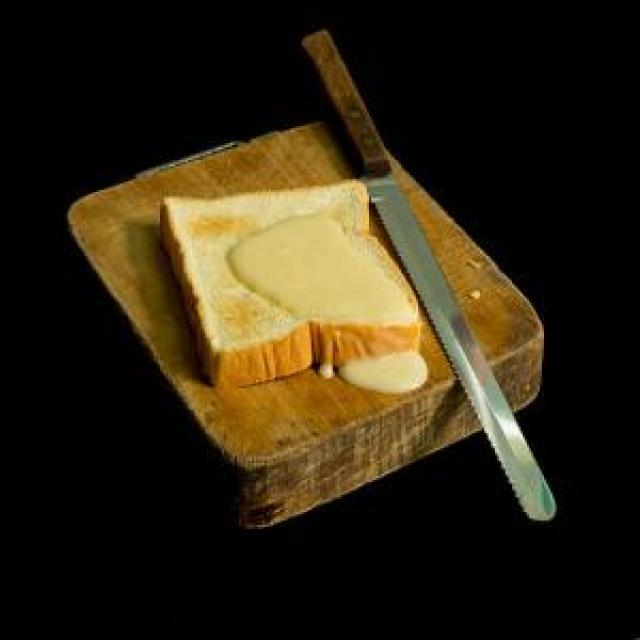knife: (303, 32, 562, 523)
